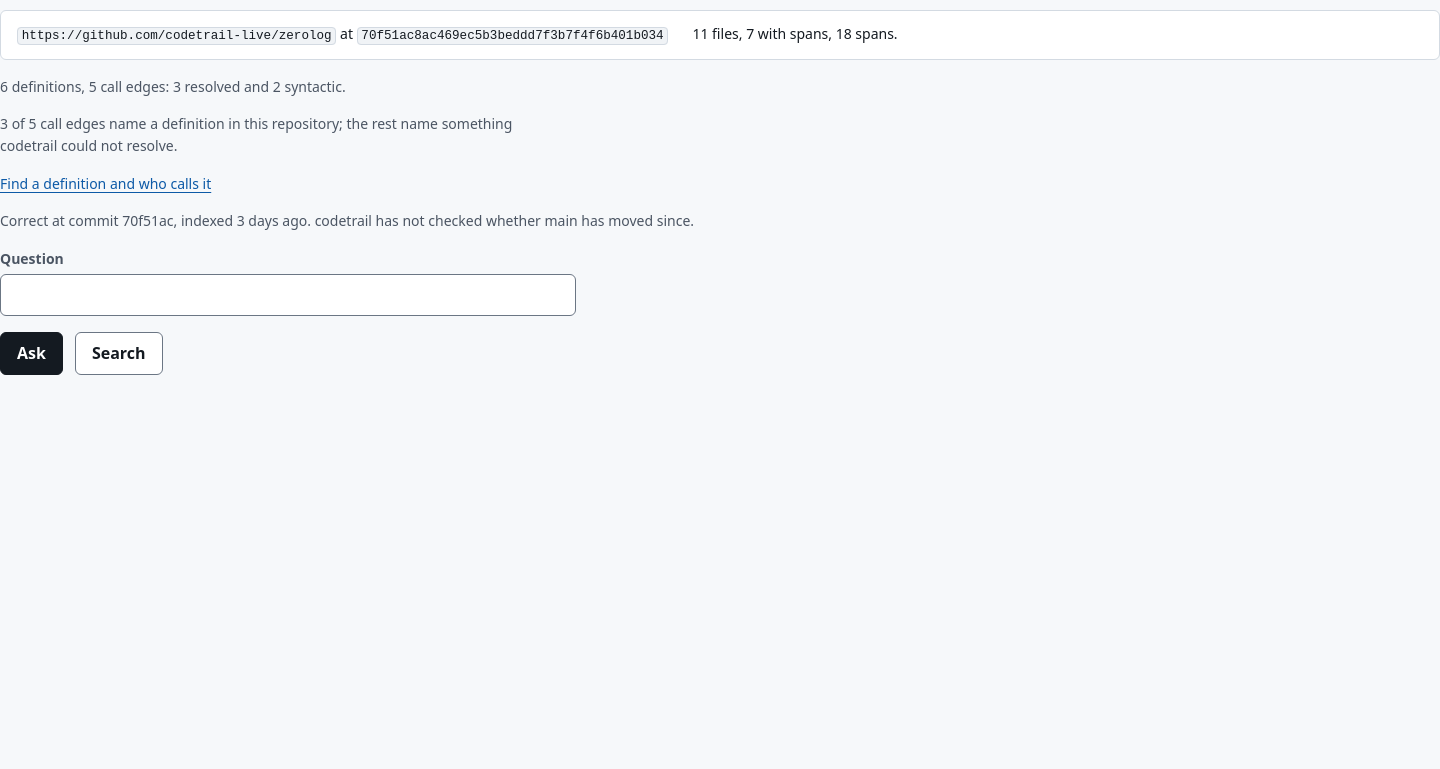
Test: the two fields the console ignored for a phase › an answer the model wrote says so and carries its trace, with no degradation
The image size is (1440, 769).
Type "how does Push work" into the field labelled "Question" at coordinates (288, 295), box x1=0 y1=274 x2=576 y2=316
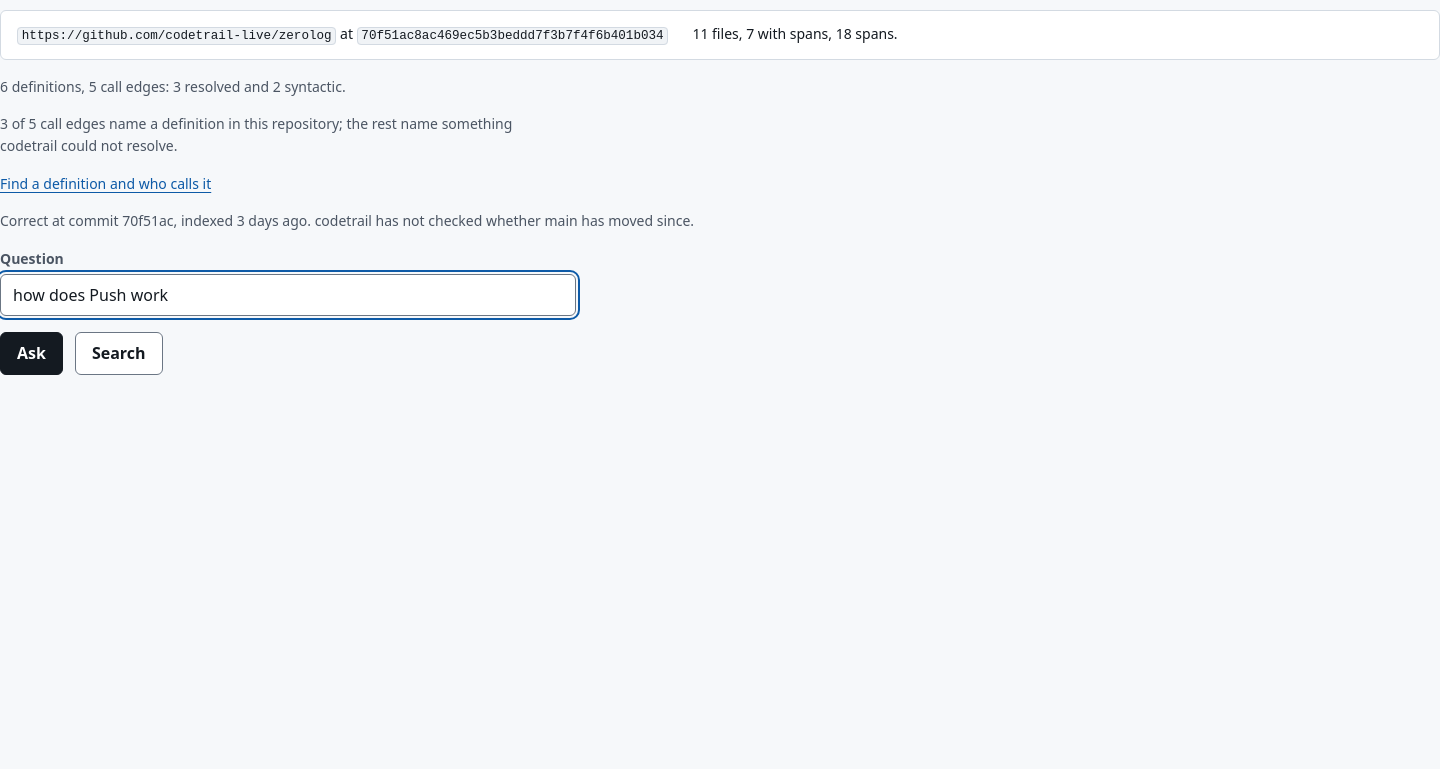
Click the button "Ask" at coordinates (31, 354), box x1=0 y1=332 x2=63 y2=375
(page scrolled)
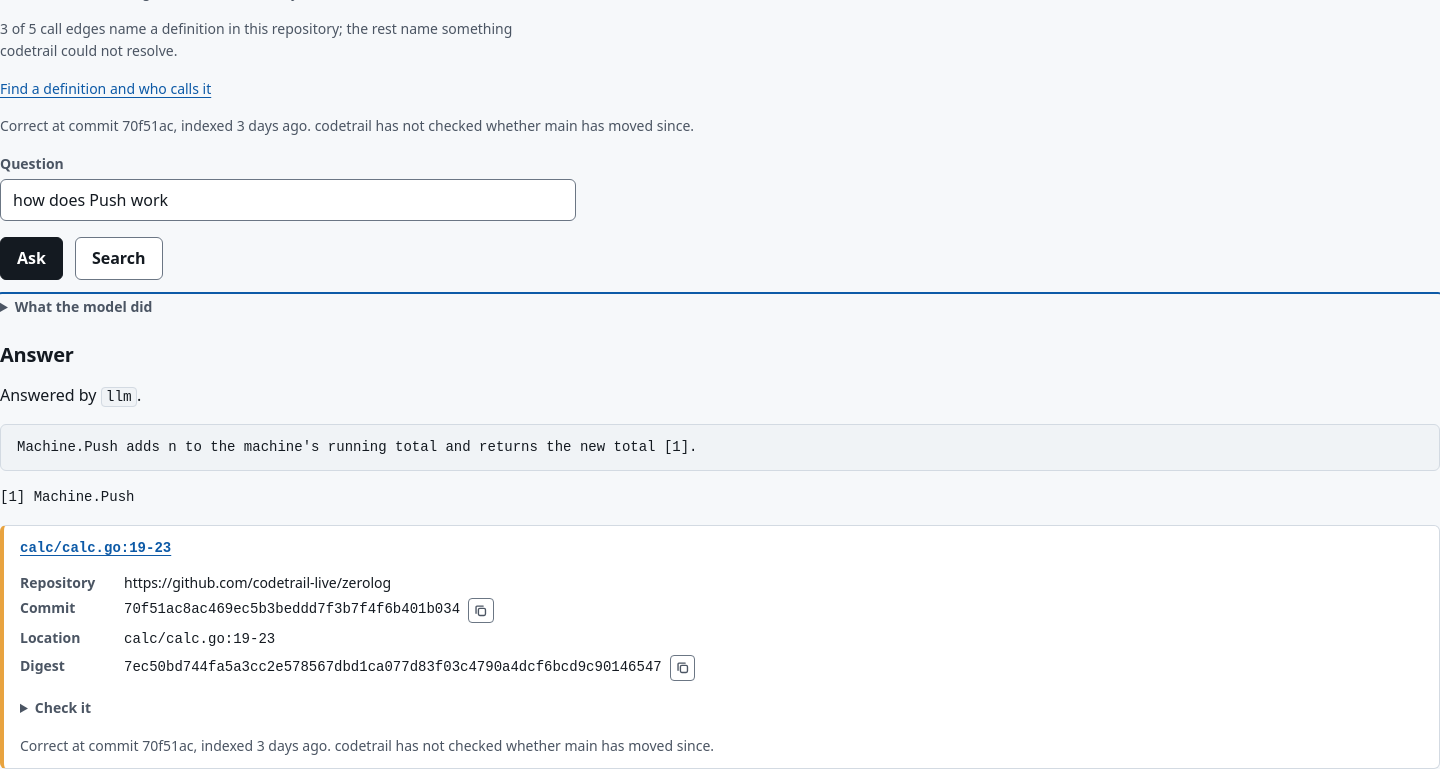
Expected: the heading "Answer" is shown, x1=0 y1=341 x2=74 y2=368
Expected: the text "llm" is shown, x1=100 y1=387 x2=137 y2=407
